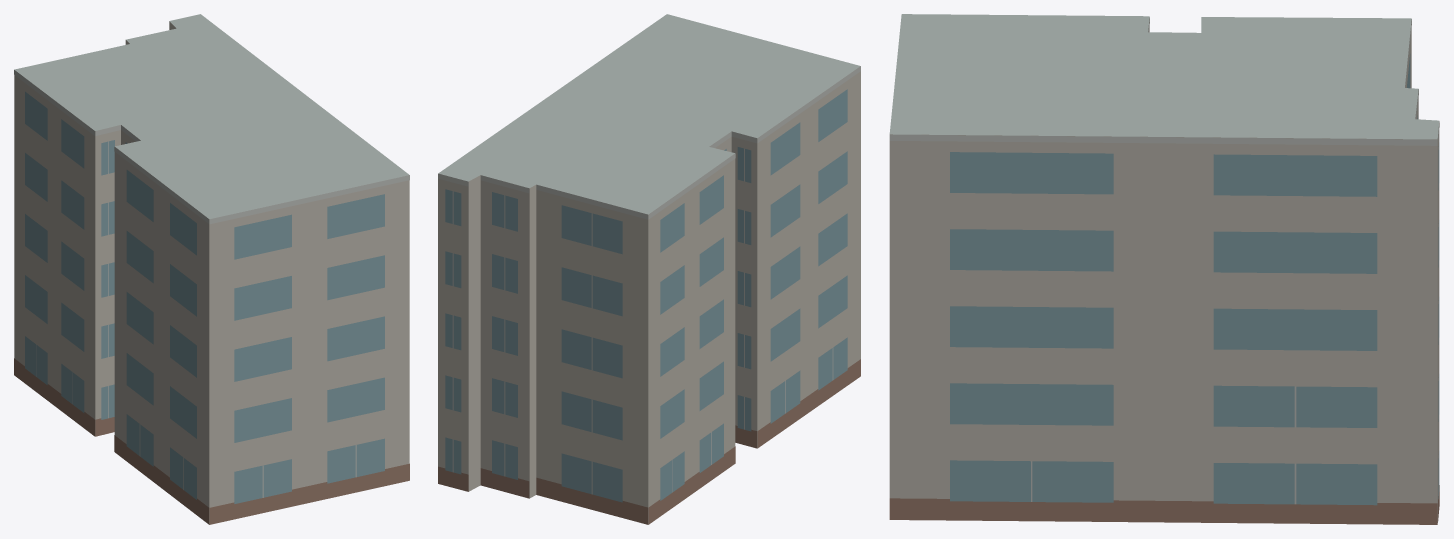
File: survey-upis-32909866.glb
3 views of the same model, side by side, from view 1: azimuth 30°, elevation 25°; view 2: azimuth 150°, elevation 25°; view 3: azimuth 270°, elevation 25° (orthographic). The views are drawn at different scales.
Parts seen in each view (by area): view 1: survey-upis-32909866.tmp; view 2: survey-upis-32909866.tmp; view 3: survey-upis-32909866.tmp.
Boxes of the visible parts, bbox=[...] form: survey-upis-32909866.tmp: bbox=[14, 14, 409, 524]; survey-upis-32909866.tmp: bbox=[438, 14, 860, 524]; survey-upis-32909866.tmp: bbox=[889, 14, 1439, 524].
Bounding box in the file's own units: 10.2 × 14.6 × 18.88.
